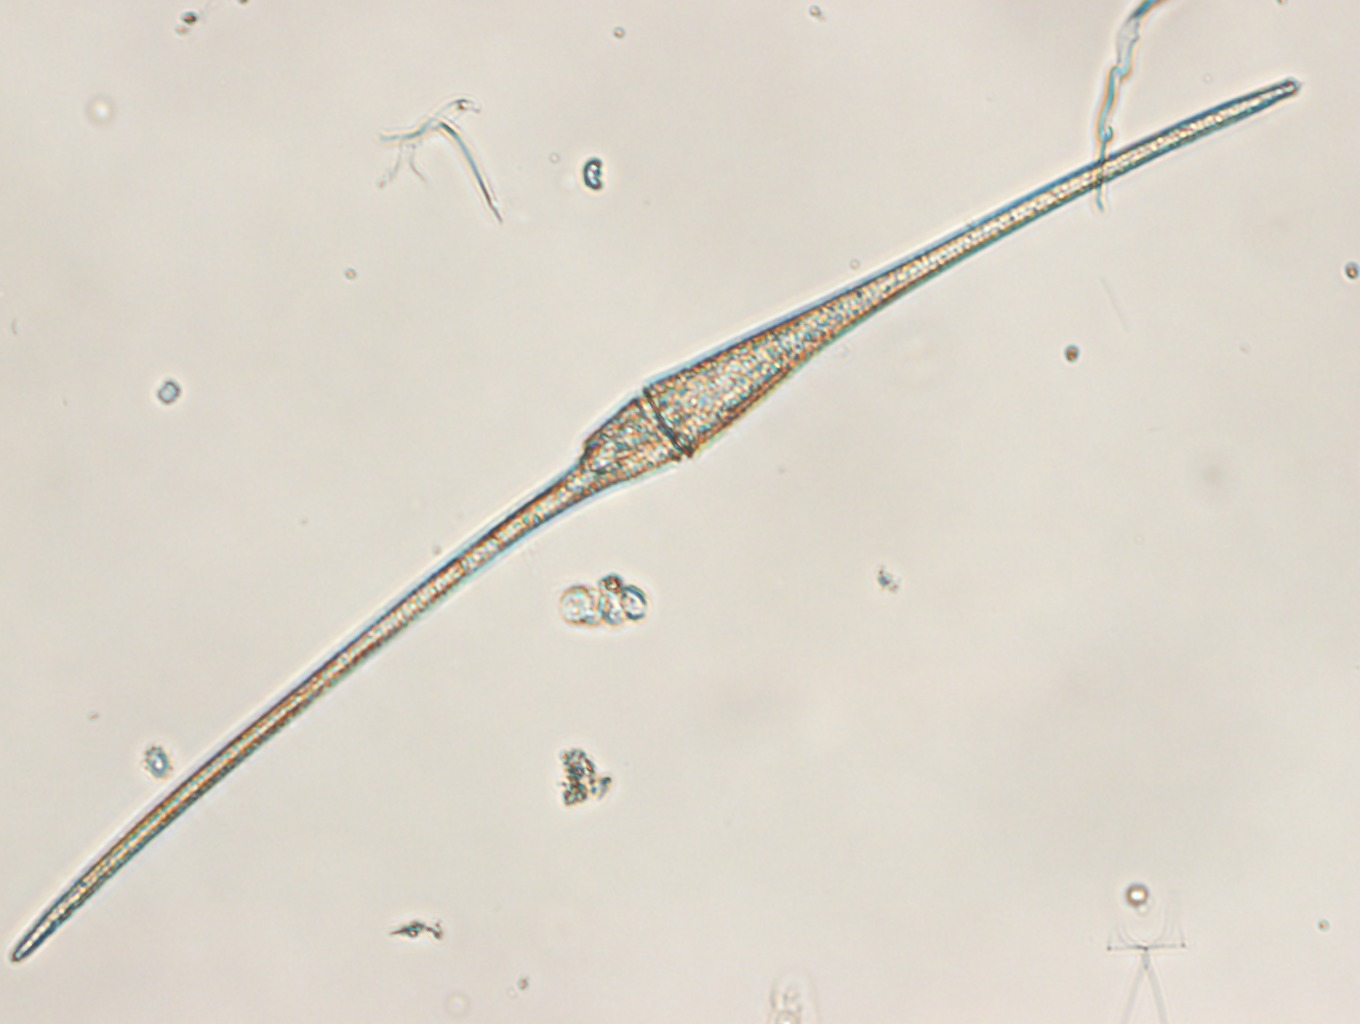ceratium fusus: (10, 77, 1303, 965)
